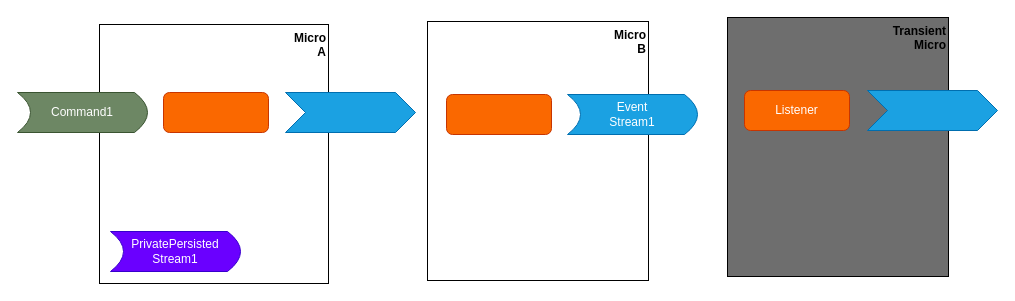
Image size: 1015x301. Some labels were removed from this diagram. The centre of each missing label's shape, as x and y in pixels:
"Command1 Handler" belongs at (x=215, y=112).
"Notifier" belongs at (x=499, y=114).
"Persisted Stream1" belongs at (x=350, y=112).
"TransientPersisted Stream1" belongs at (x=932, y=110).
